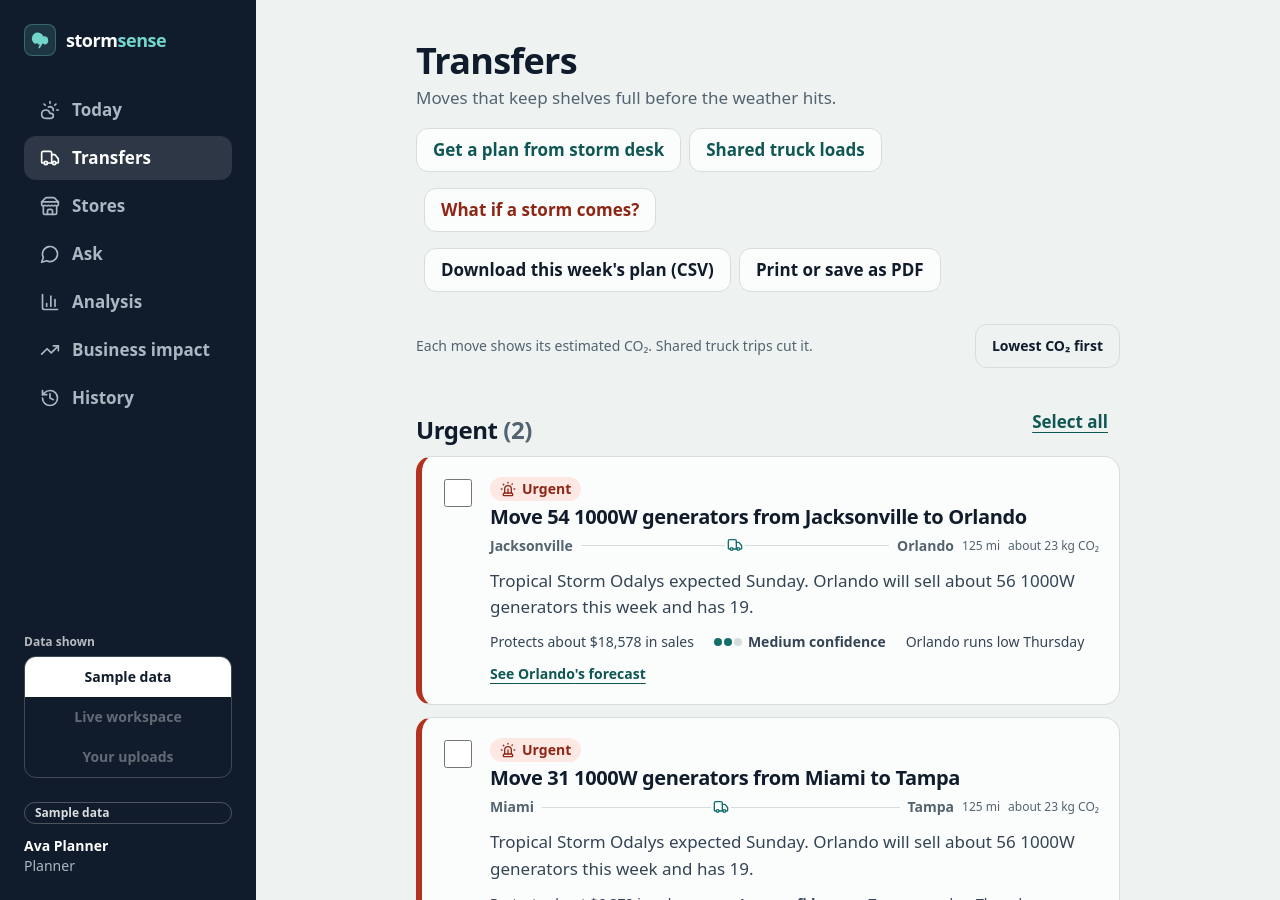
it: Transfers › says plainly when someone else already handled one
Click the checkbox labelled "Move 54 1000W generators from Jacksonville to Orlando": coordinates (458, 493) [444,479,472,507]
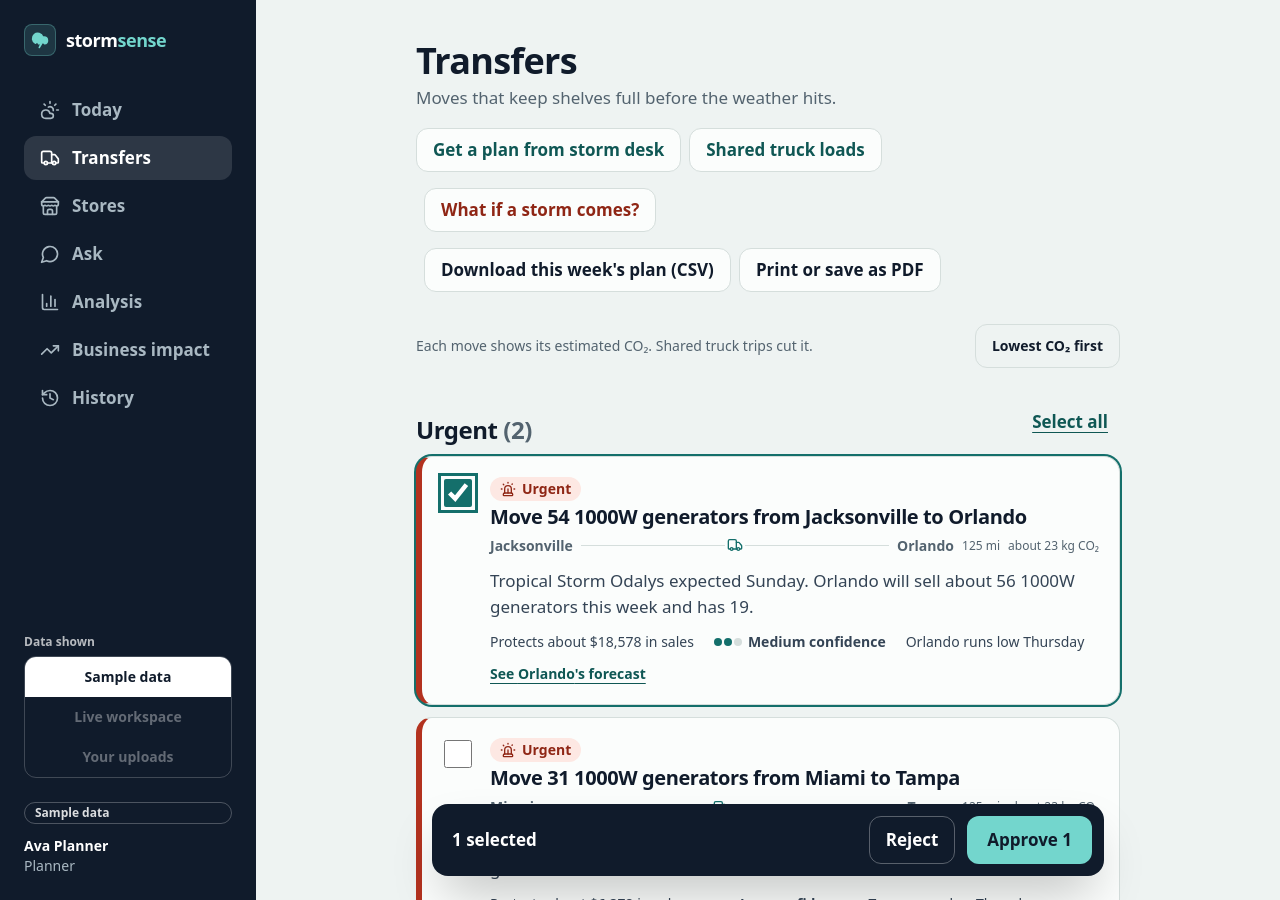
Click the checkbox labelled "Move 31 1000W generators from Miami to Tampa": coordinates (458, 754) [444,740,472,768]
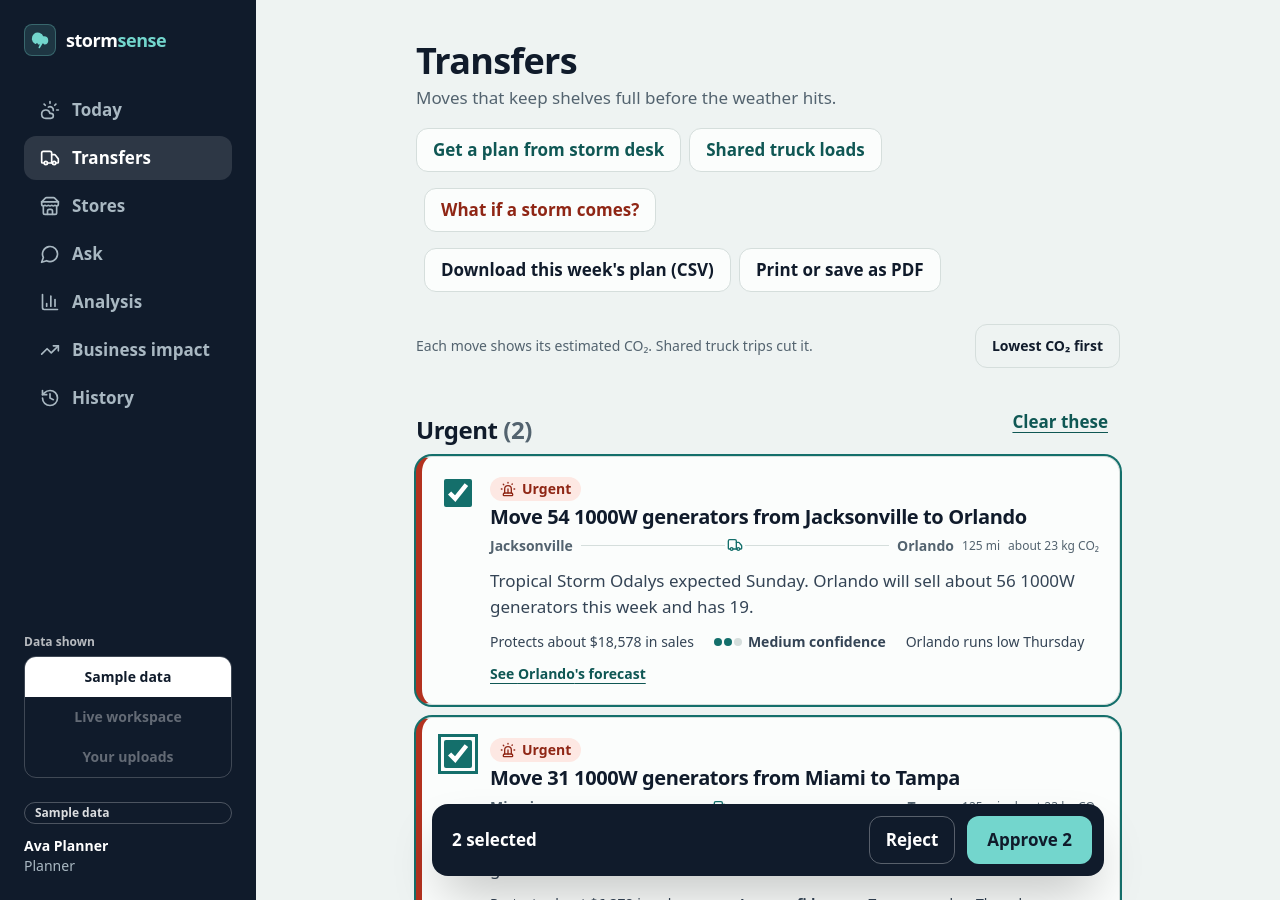
Click the button "Approve 2": coordinates (1030, 840) [967,816,1092,864]
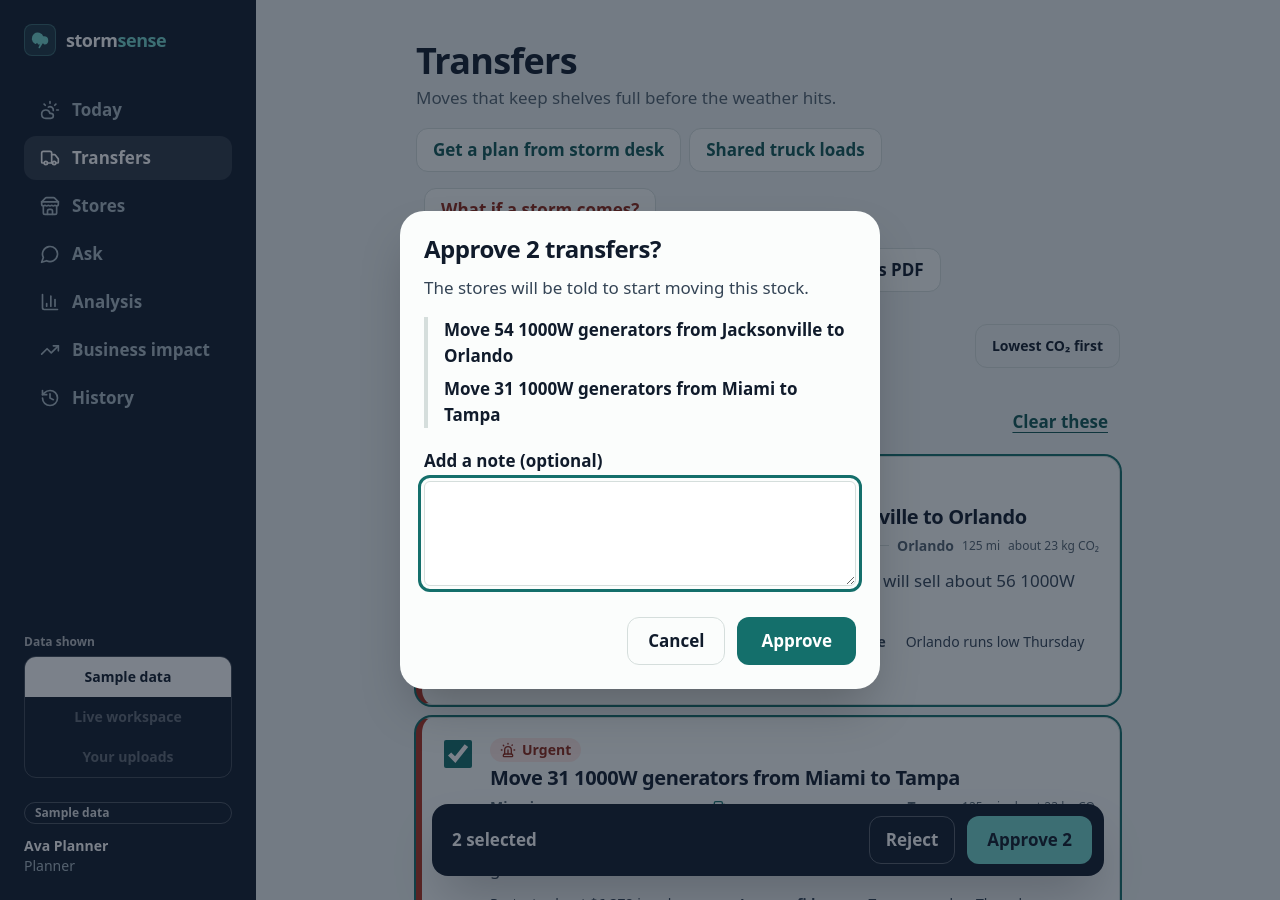
Click the button "Approve": coordinates (797, 641) [738,617,856,665]
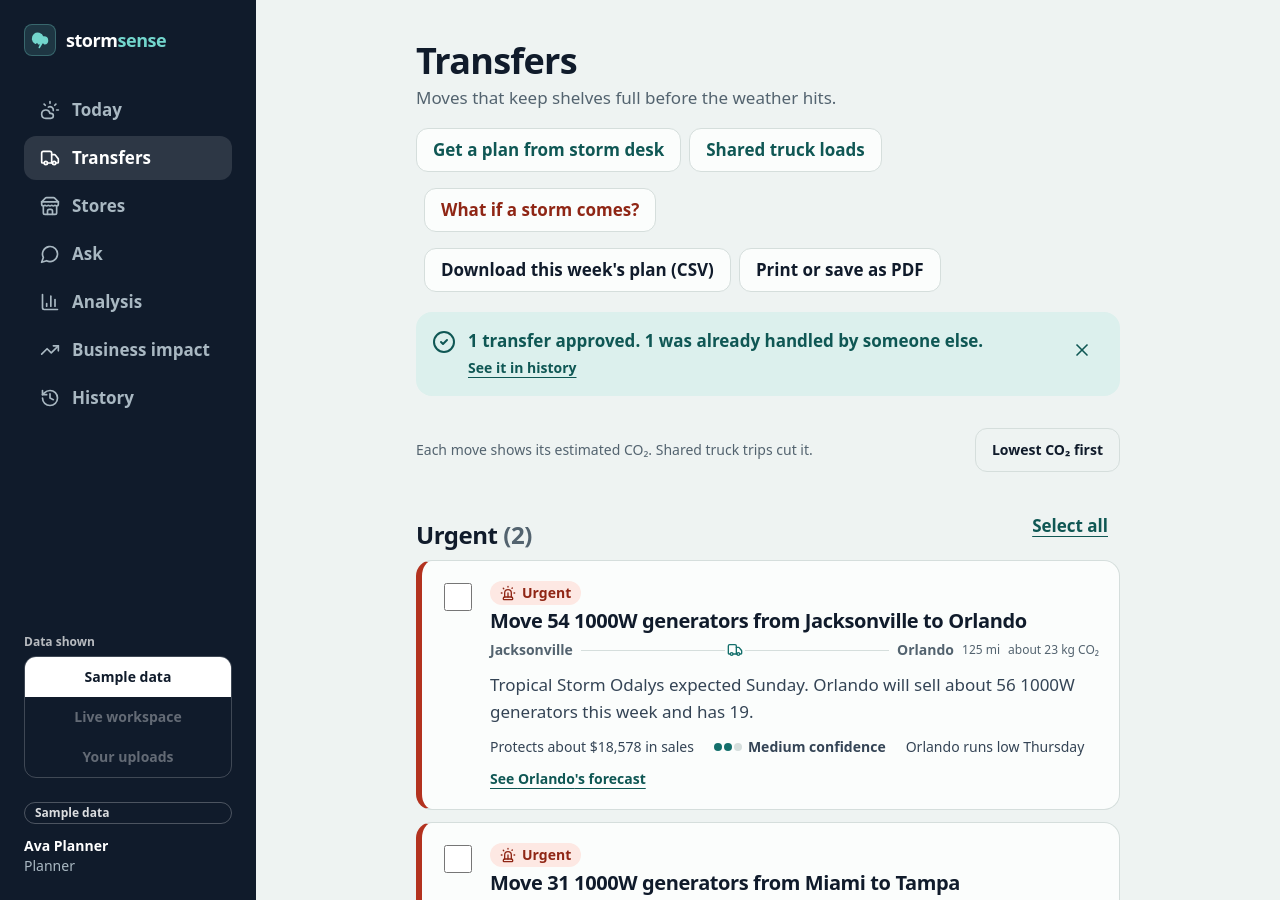
Expected: the text "1 transfer approved. 1 was already handled by someone else." is shown, [468,328,1048,354]
